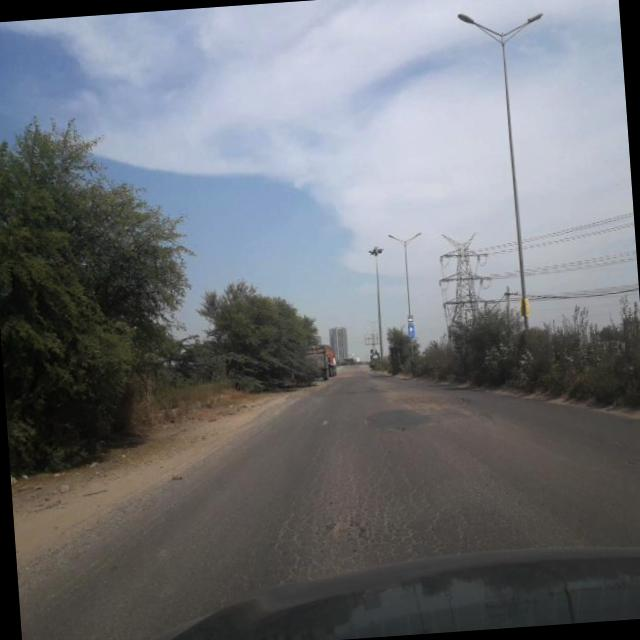crack: (237, 414, 482, 592), (30, 448, 246, 612)
pothole: (312, 511, 379, 546), (401, 390, 468, 425)
